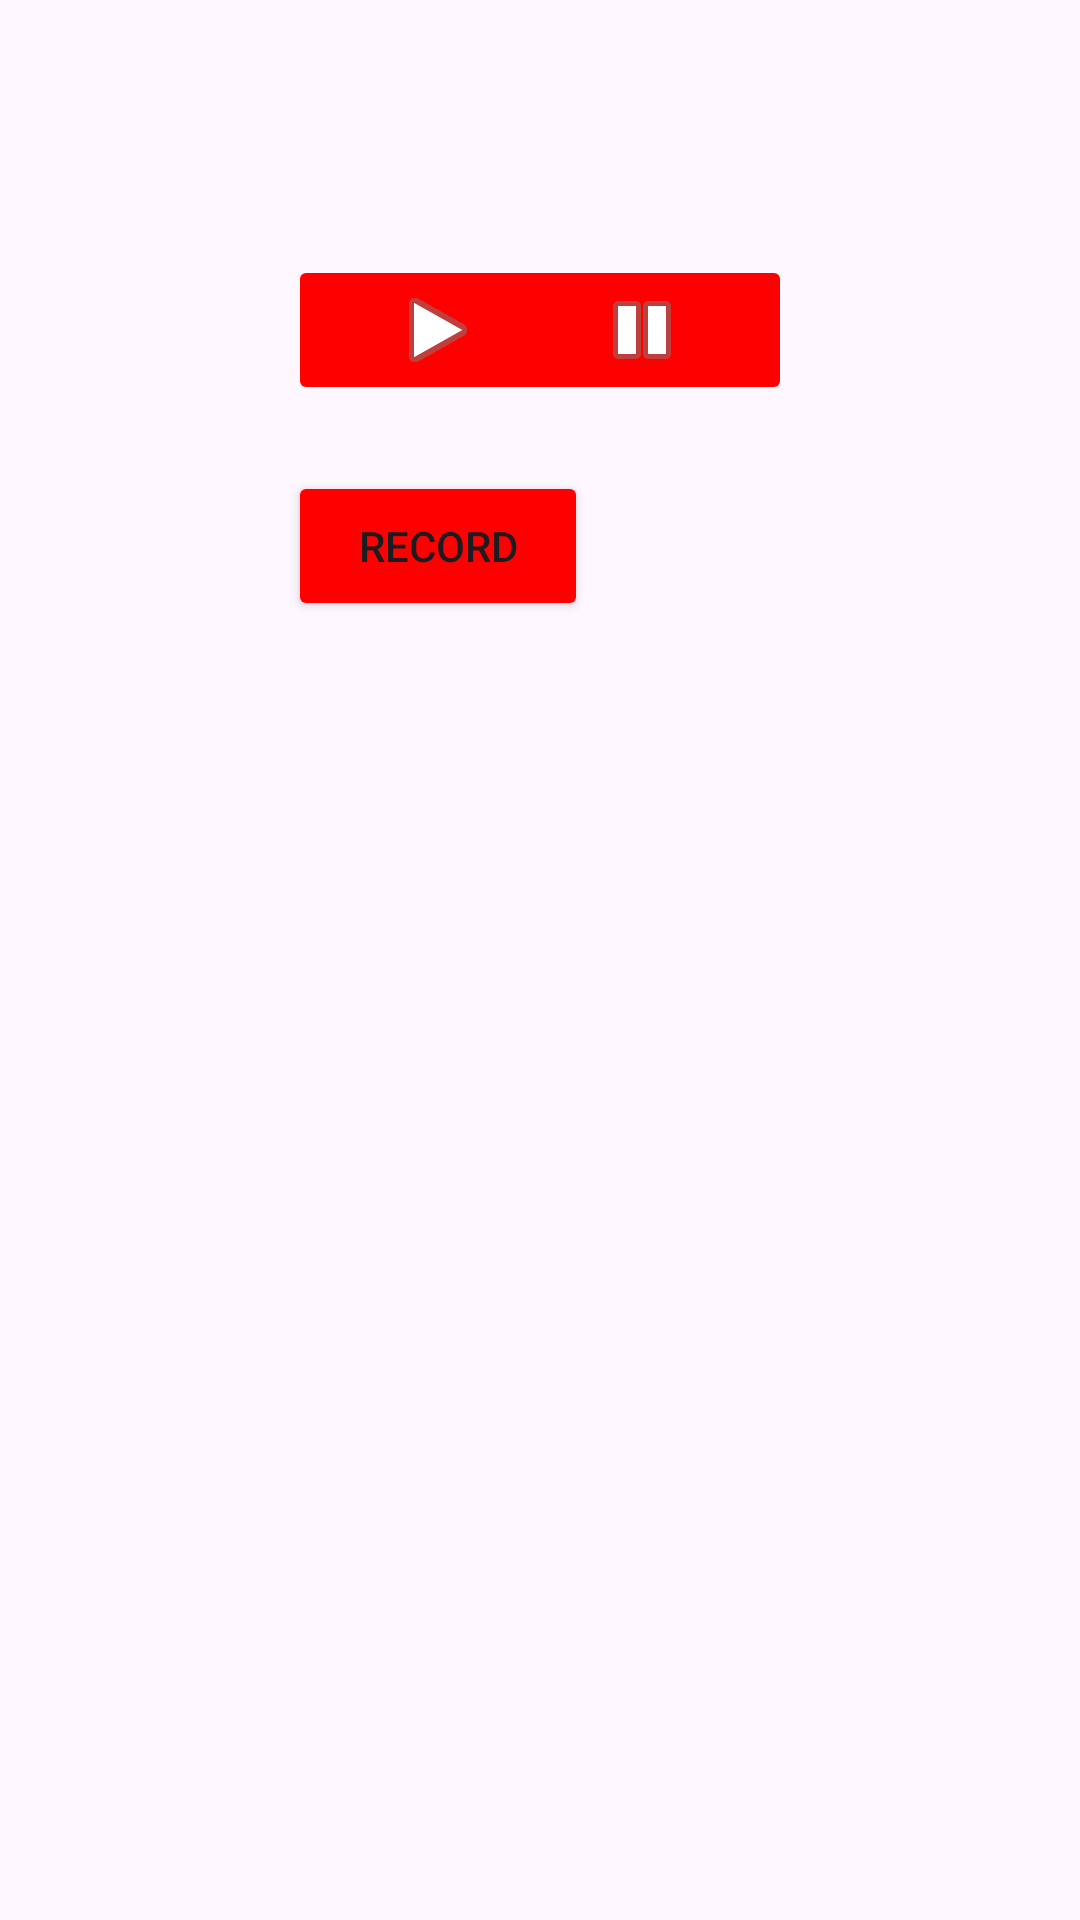

Where icons sit on this 1080×1920 app screen, as (x1, y1, x2, y2):
Start Timer: (300, 273, 588, 387)
Stop Timer: (492, 273, 780, 387)
